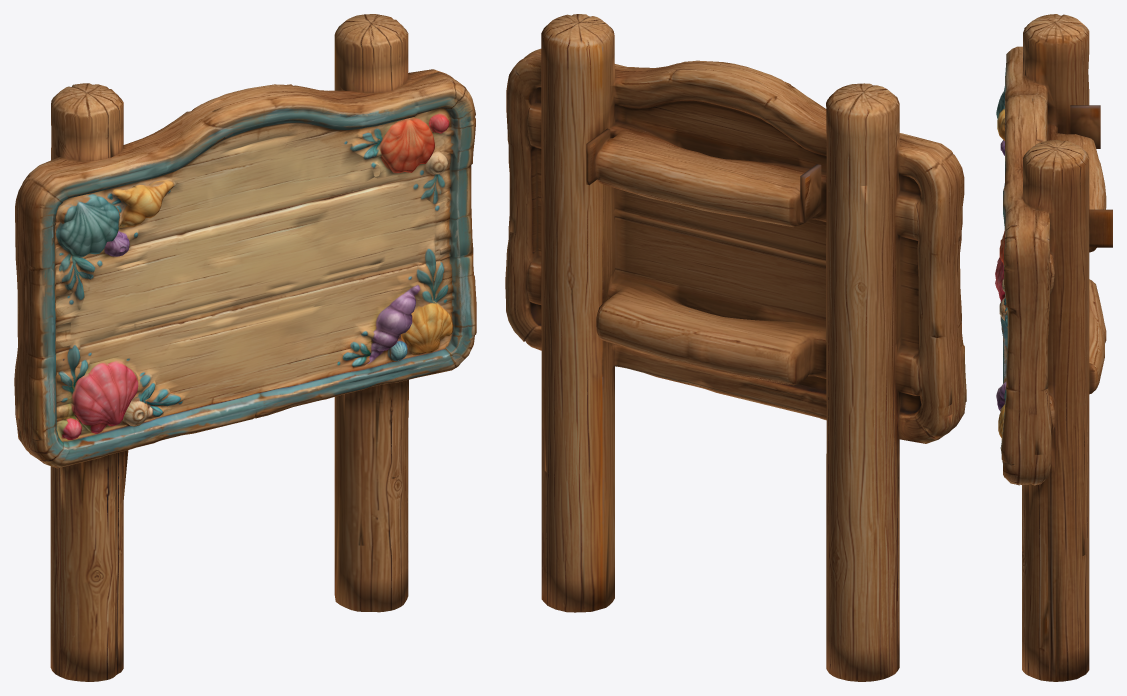
The model's file is welcome_sign.glb.
3 renders of one model, left to right at view 1: azimuth 30°, elevation 25°; view 2: azimuth 150°, elevation 25°; view 3: azimuth 270°, elevation 25°, orthographic. The views are drawn at different scales.
Visible parts, largest first — view 1: tripo_node_7ba8bf51-8bbe-4d2f-b783-6745f60c4a07; view 2: tripo_node_7ba8bf51-8bbe-4d2f-b783-6745f60c4a07; view 3: tripo_node_7ba8bf51-8bbe-4d2f-b783-6745f60c4a07.
Boxes of the visible parts, <box> form: tripo_node_7ba8bf51-8bbe-4d2f-b783-6745f60c4a07: <box>14,14,476,681</box>; tripo_node_7ba8bf51-8bbe-4d2f-b783-6745f60c4a07: <box>505,14,966,681</box>; tripo_node_7ba8bf51-8bbe-4d2f-b783-6745f60c4a07: <box>995,14,1112,681</box>.
Bounding box in the file's own units: 0.7892 × 0.9765 × 0.2006.
1 material, 1 textured.
